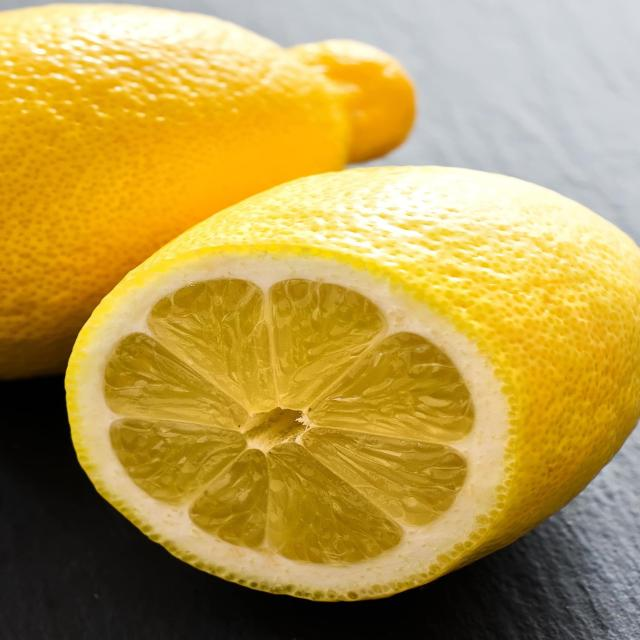lemon: (58, 158, 640, 607)
